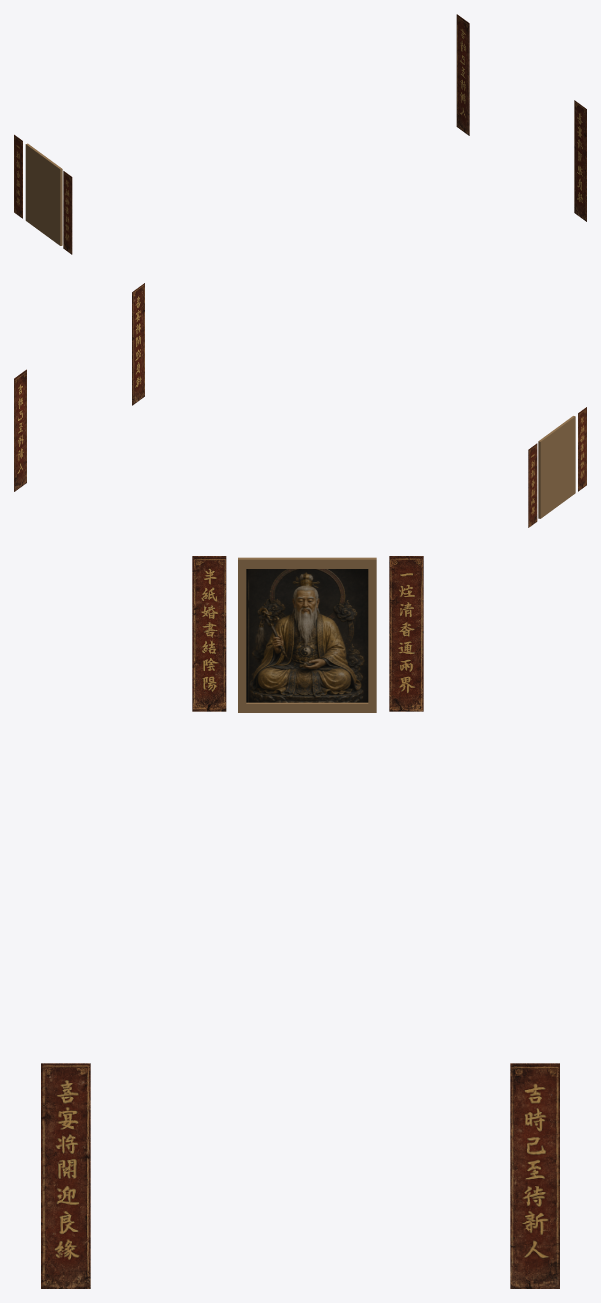
File: Couplet.fbx
3 views of the same model, one above another, from view 1: azimuth 30°, elevation 25°; view 2: azimuth 150°, elevation 25°; view 3: azimuth 270°, elevation 25° (orthographic). The views are drawn at different scales.
Parts seen in each view (by area): view 1: 01.Plane, Couplet_3, Couplet_4, Couplet_2, Couplet_1; view 2: 01.Plane, Couplet_3, Couplet_4, Couplet_1, Couplet_2; view 3: 01.Plane.003, Couplet_3, Couplet_4, 01.Plane, Couplet_1, Couplet_2.
Part boxes in pixels (x1=…): 01.Plane: x1=25, y1=143, x2=62, y2=245; Couplet_3: x1=456, y1=14, x2=469, y2=135; Couplet_4: x1=574, y1=100, x2=586, y2=221; Couplet_2: x1=63, y1=171, x2=72, y2=254; Couplet_1: x1=14, y1=134, x2=22, y2=218; 01.Plane: x1=538, y1=416, x2=575, y2=518; Couplet_3: x1=14, y1=369, x2=26, y2=491; Couplet_4: x1=132, y1=283, x2=144, y2=405; Couplet_1: x1=528, y1=443, x2=537, y2=527; Couplet_2: x1=578, y1=407, x2=586, y2=491; 01.Plane.003: x1=246, y1=569, x2=368, y2=702; Couplet_3: x1=510, y1=1063, x2=559, y2=1288; Couplet_4: x1=41, y1=1063, x2=90, y2=1288; 01.Plane: x1=238, y1=557, x2=376, y2=712; Couplet_1: x1=389, y1=556, x2=423, y2=711; Couplet_2: x1=192, y1=556, x2=226, y2=711.
Size of the model in its own units: 2572 by 687 by 1212.
